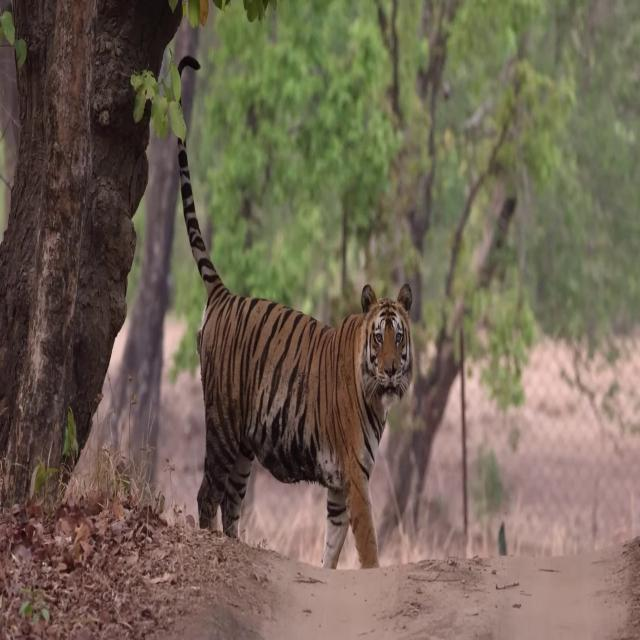tiger: (173, 51, 414, 569)
